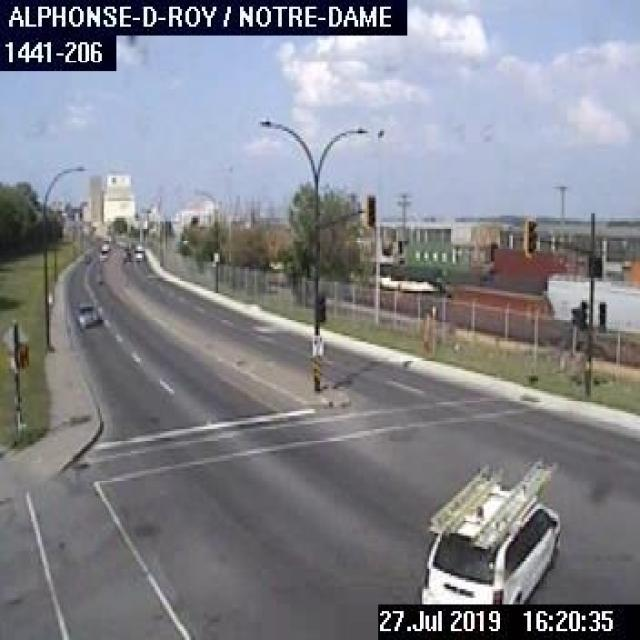vehicle: (414, 456, 564, 602), (74, 298, 104, 326), (98, 238, 113, 260), (128, 244, 146, 260)
